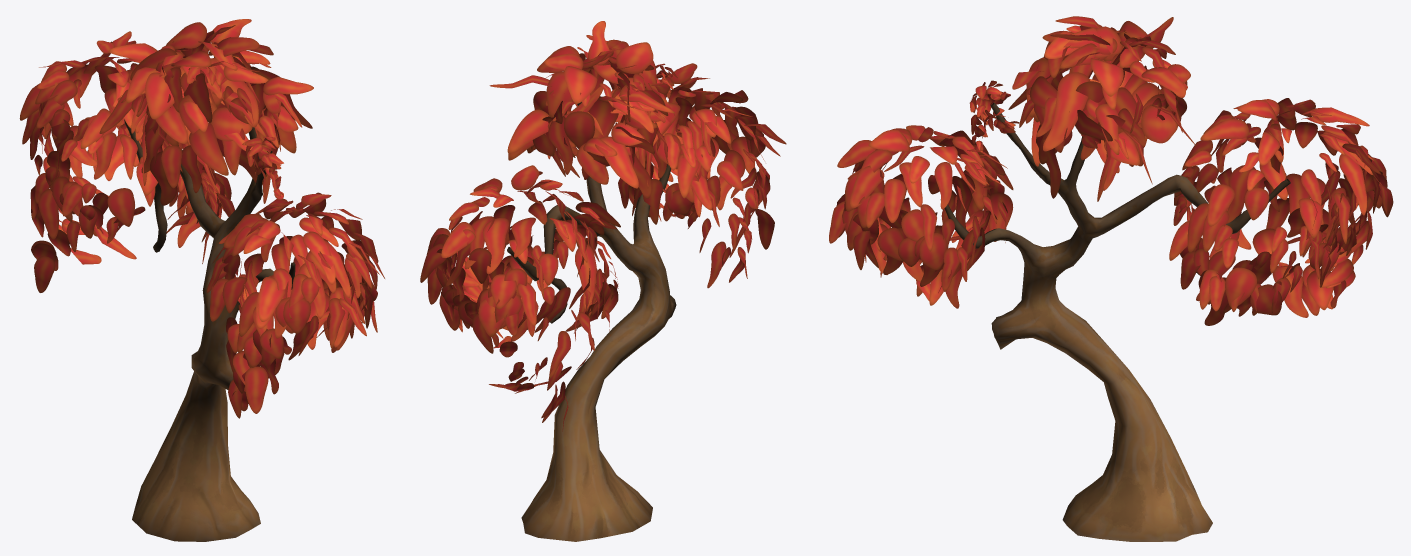
File: tree.fbx
The picture shows the model from 3 angles, left to right: view 1: azimuth 30°, elevation 25°; view 2: azimuth 150°, elevation 25°; view 3: azimuth 270°, elevation 25°; orthographic projection. The views are drawn at different scales.
Visible parts, largest first — view 1: styl_trees_styl_trees_0_node, leave_01_low.195, leave_03_low.173, leave_02_low.223, leave_03_low.167, leave_02_low.218, leave_03_low.130, leave_03_low.186, leave_02_low.143, leave_02_low.180, leave_03_low.169, leave_03_low.220 (+30 smaller); view 2: styl_trees_styl_trees_0_node, leave_01_low.211, leave_02_low.189, leave_04_low.137, leave_03_low.172, leave_03_low.181, leave_03_low.186, leave_04_low.123, leave_03_low.184, leave_04_low.179, leave_04_low.161, leave_02_low.192 (+21 smaller); view 3: styl_trees_styl_trees_0_node, leave_04_low.156, leave_03_low.187, leave_03_low.121, leave_04_low.138, leave_03_low.164, leave_02_low.215, leave_04_low.109, leave_02_low.127, leave_01_low.135, leave_04_low.125, leave_02_low.214 (+5 smaller).
Boxes of the visible parts, <box> form: styl_trees_styl_trees_0_node: <box>124,119,295,541</box>; leave_01_low.195: <box>189,122,228,175</box>; leave_03_low.173: <box>145,72,174,119</box>; leave_02_low.223: <box>245,366,268,413</box>; leave_03_low.167: <box>210,107,252,141</box>; leave_02_low.218: <box>257,277,285,321</box>; leave_03_low.130: <box>107,188,134,226</box>; leave_03_low.186: <box>166,22,206,49</box>; leave_02_low.143: <box>38,189,58,239</box>; leave_02_low.180: <box>155,105,188,143</box>; leave_03_low.169: <box>183,73,212,122</box>; leave_03_low.220: <box>283,298,310,333</box>; styl_trees_styl_trees_0_node: <box>507,102,676,541</box>; leave_01_low.211: <box>507,109,549,153</box>; leave_02_low.189: <box>595,136,638,188</box>; leave_04_low.137: <box>482,218,508,274</box>; leave_03_low.172: <box>616,42,653,73</box>; leave_03_low.181: <box>564,111,594,148</box>; leave_03_low.186: <box>564,66,597,103</box>; leave_04_low.123: <box>575,244,596,309</box>; leave_03_low.184: <box>546,71,573,117</box>; leave_04_low.179: <box>548,116,572,174</box>; leave_04_low.161: <box>588,96,618,138</box>; leave_02_low.192: <box>576,143,608,184</box>; styl_trees_styl_trees_0_node: <box>940,102,1290,541</box>; leave_04_low.156: <box>1043,72,1089,151</box>; leave_03_low.187: <box>1141,105,1177,143</box>; leave_03_low.121: <box>1225,267,1256,307</box>; leave_04_low.138: <box>1339,154,1366,215</box>; leave_03_low.164: <box>1090,58,1123,96</box>; leave_02_low.215: <box>850,165,884,208</box>; leave_04_low.109: <box>1226,165,1255,223</box>; leave_02_low.127: <box>1207,184,1234,226</box>; leave_01_low.135: <box>1200,119,1248,140</box>; leave_04_low.125: <box>1272,264,1308,317</box>; leave_02_low.214: <box>884,179,905,222</box>.
Size of the model in its own units: 1952 by 713 by 1878.
